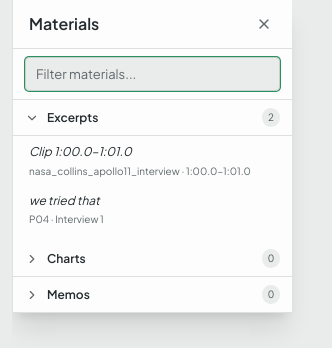
Test: MaterialsDrawer — clip excerpts (#630) › finds a clip by its observation name in the filter
Check: the button with aria-label "Insert Clip" is shown, box x1=21 y1=136 x2=284 y2=184
Type "apollo" into the field with placeholder "Filter materials..." at (152, 74), box x1=25 y1=57 x2=280 y2=91
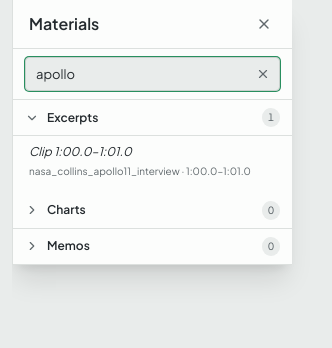
Check: the button with aria-label "Insert Clip" is shown, box x1=21 y1=136 x2=284 y2=184
Check: the button "we tried that" is gone
